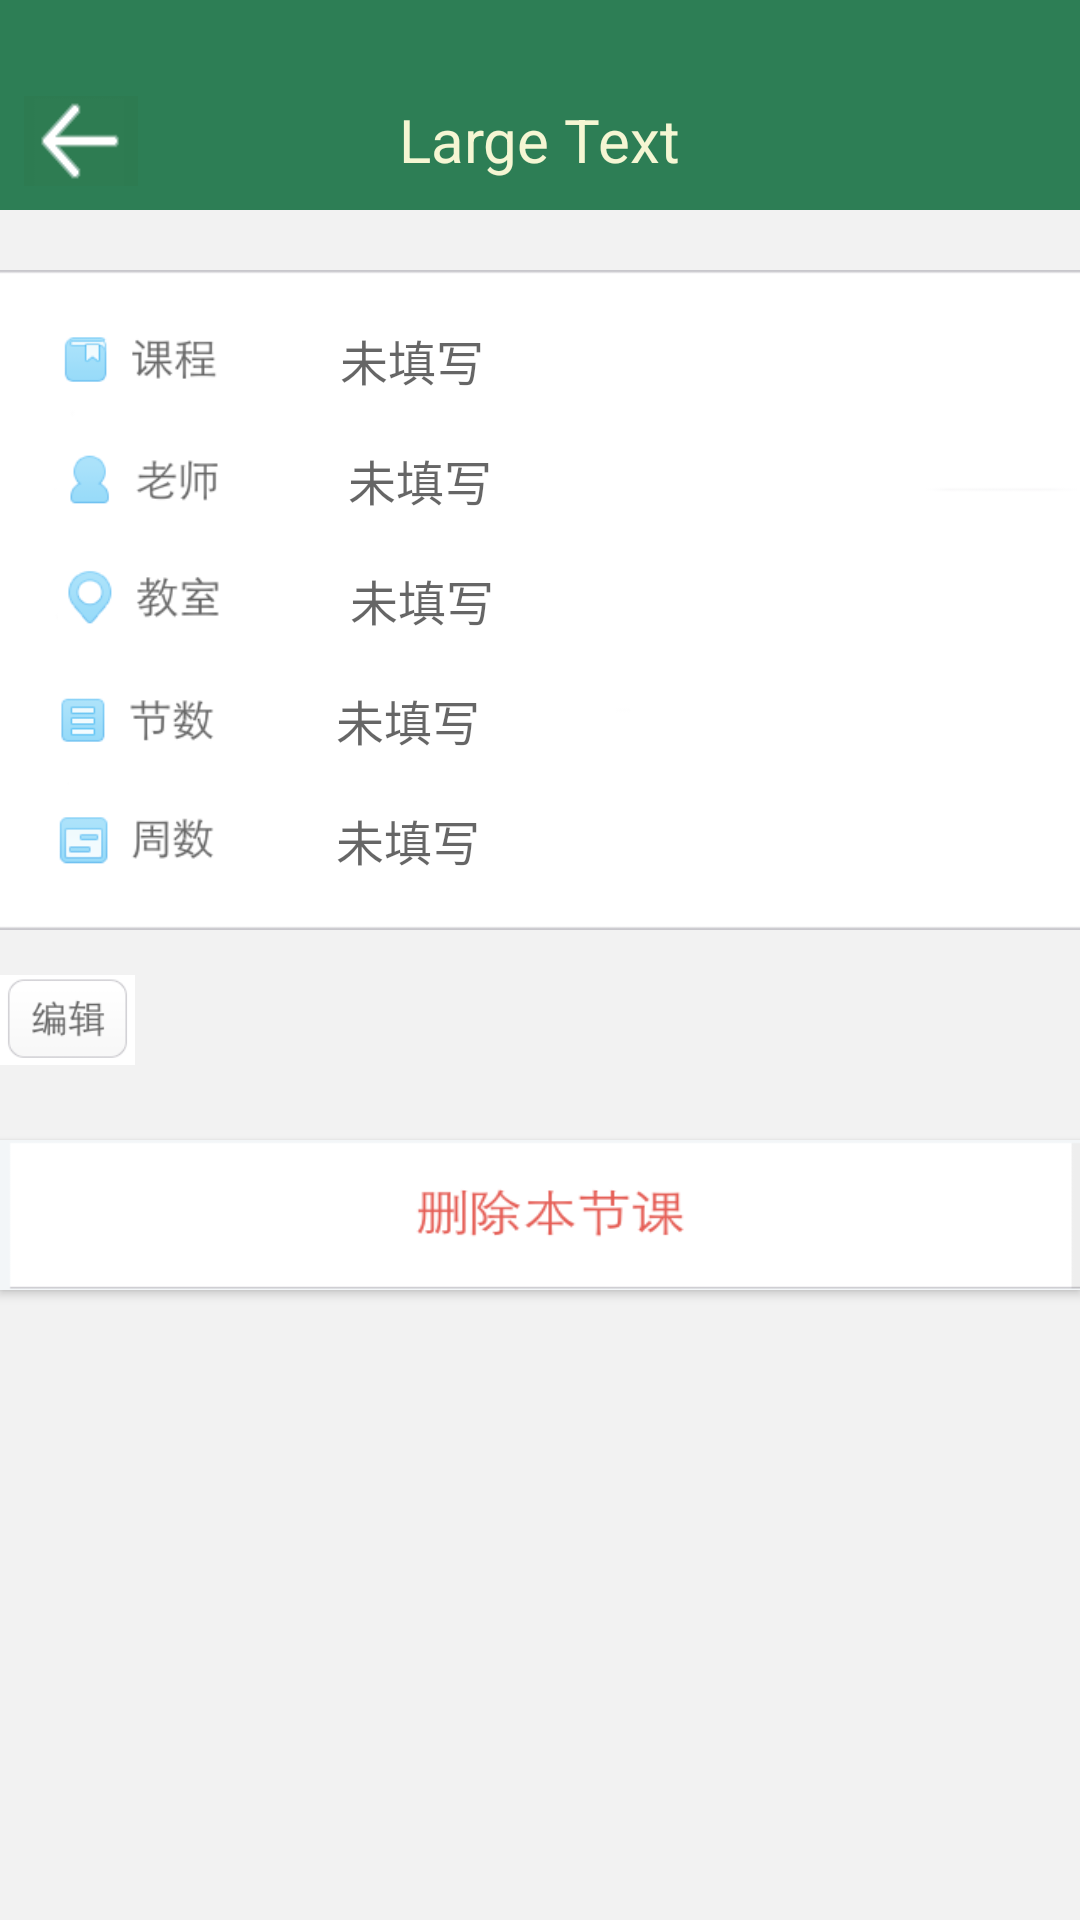

Icon bounding boxes for this 1080px x 1920px phone screenshot, format (x1, y1, x2, y2):
back: (41, 103, 119, 179)
